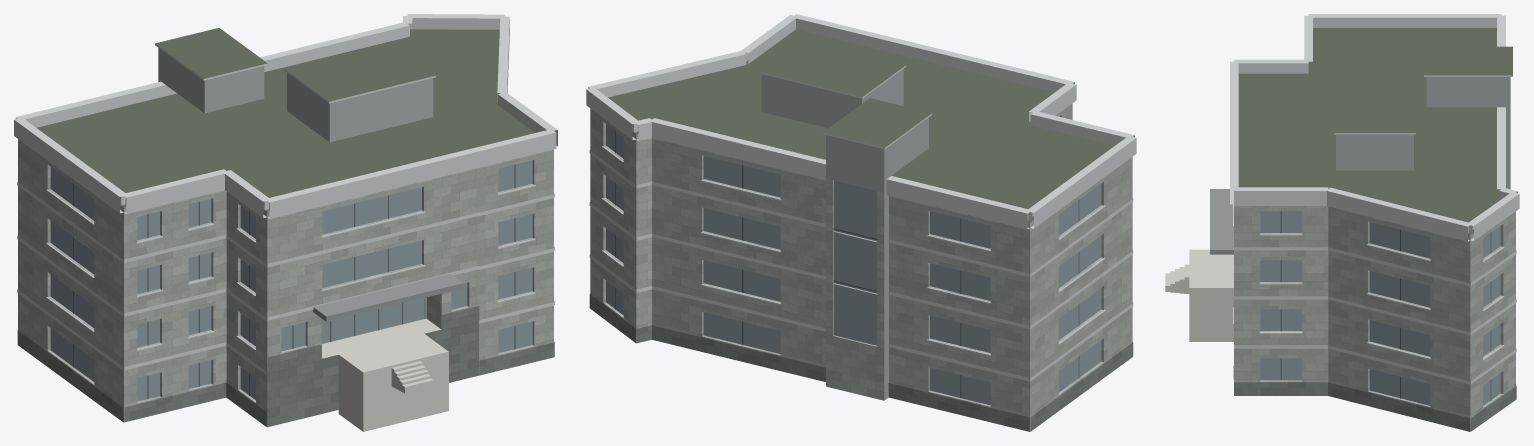
3 views of the same model, side by side, from view 1: azimuth 30°, elevation 25°; view 2: azimuth 150°, elevation 25°; view 3: azimuth 270°, elevation 25° (orthographic). The views are drawn at different scales.
Parts seen in each view (by area): view 1: b32_1__wall, b32_1__roof, b32_1__trim, b32_1__glass, b32_1__base, b32_1__entranceStair, b32_1__wall2, b32_1__canopy, b32_1__frame; view 2: b32_1__wall, b32_1__roof, b32_1__trim, b32_1__glass, b32_1__wall2, b32_1__base, b32_1__frame; view 3: b32_1__wall, b32_1__roof, b32_1__trim, b32_1__glass, b32_1__wall2, b32_1__entranceStair, b32_1__base, b32_1__canopy, b32_1__frame.
Part boxes in pixels (x1,y1,x2,y2): b32_1__wall: (18, 139, 553, 426); b32_1__roof: (36, 28, 534, 427); b32_1__trim: (14, 14, 557, 374); b32_1__glass: (50, 160, 532, 401); b32_1__base: (17, 306, 554, 426); b32_1__entranceStair: (322, 319, 448, 431); b32_1__wall2: (158, 48, 433, 142); b32_1__canopy: (313, 274, 463, 321); b32_1__frame: (73, 164, 515, 399); b32_1__wall: (590, 103, 1132, 431); b32_1__roof: (608, 29, 1114, 431); b32_1__trim: (586, 14, 1136, 381); b32_1__glass: (606, 124, 1101, 405); b32_1__wall2: (761, 69, 928, 400); b32_1__base: (589, 293, 1133, 431); b32_1__frame: (615, 131, 1079, 398); b32_1__wall: (1234, 206, 1515, 431); b32_1__roof: (1238, 28, 1512, 235); b32_1__trim: (1230, 14, 1519, 384); b32_1__glass: (1260, 211, 1500, 405); b32_1__wall2: (1336, 77, 1510, 189); b32_1__entranceStair: (1165, 249, 1233, 341); b32_1__base: (1233, 366, 1516, 431); b32_1__canopy: (1210, 189, 1233, 254); b32_1__frame: (1280, 211, 1491, 400).
Bounding box in the file's own units: 33.47 × 17.85 × 23.55.
Materials: 10 (2 with a texture image).
